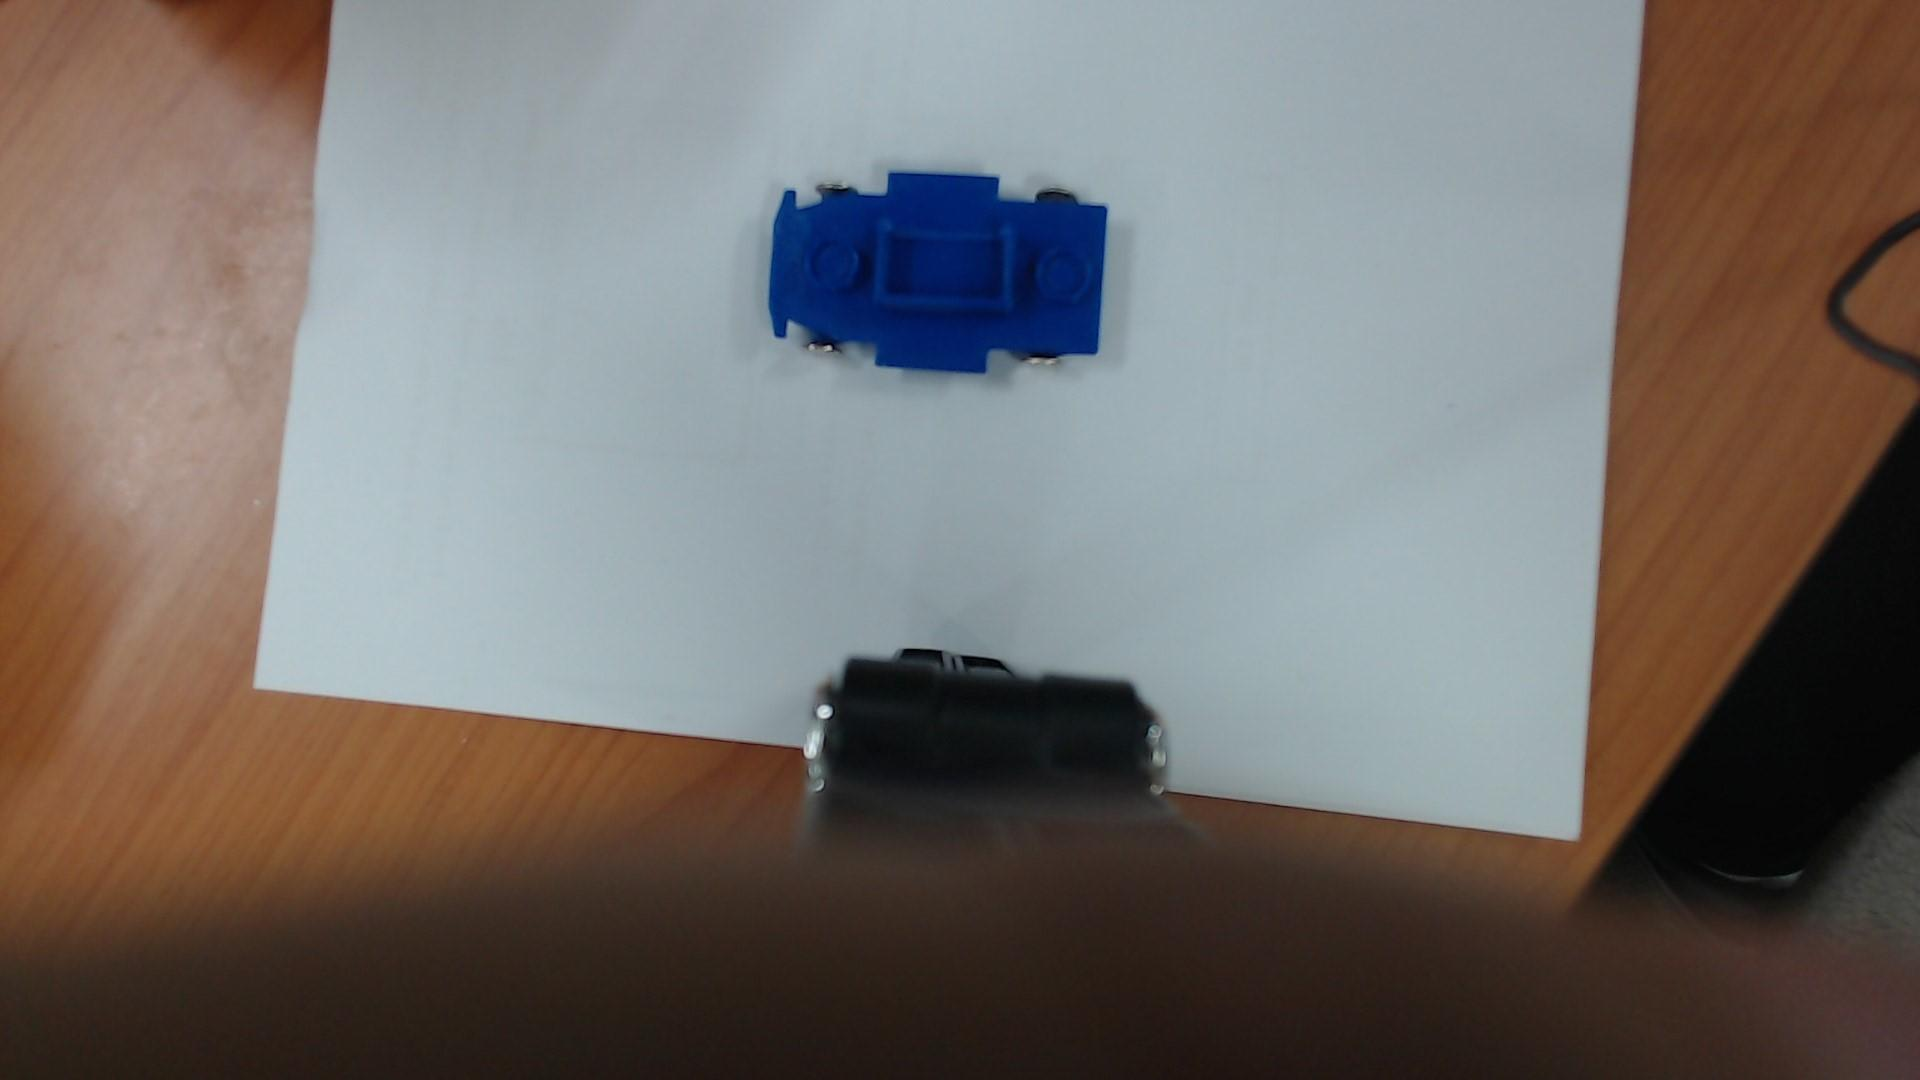lower_ng: (864, 218, 1022, 318)
